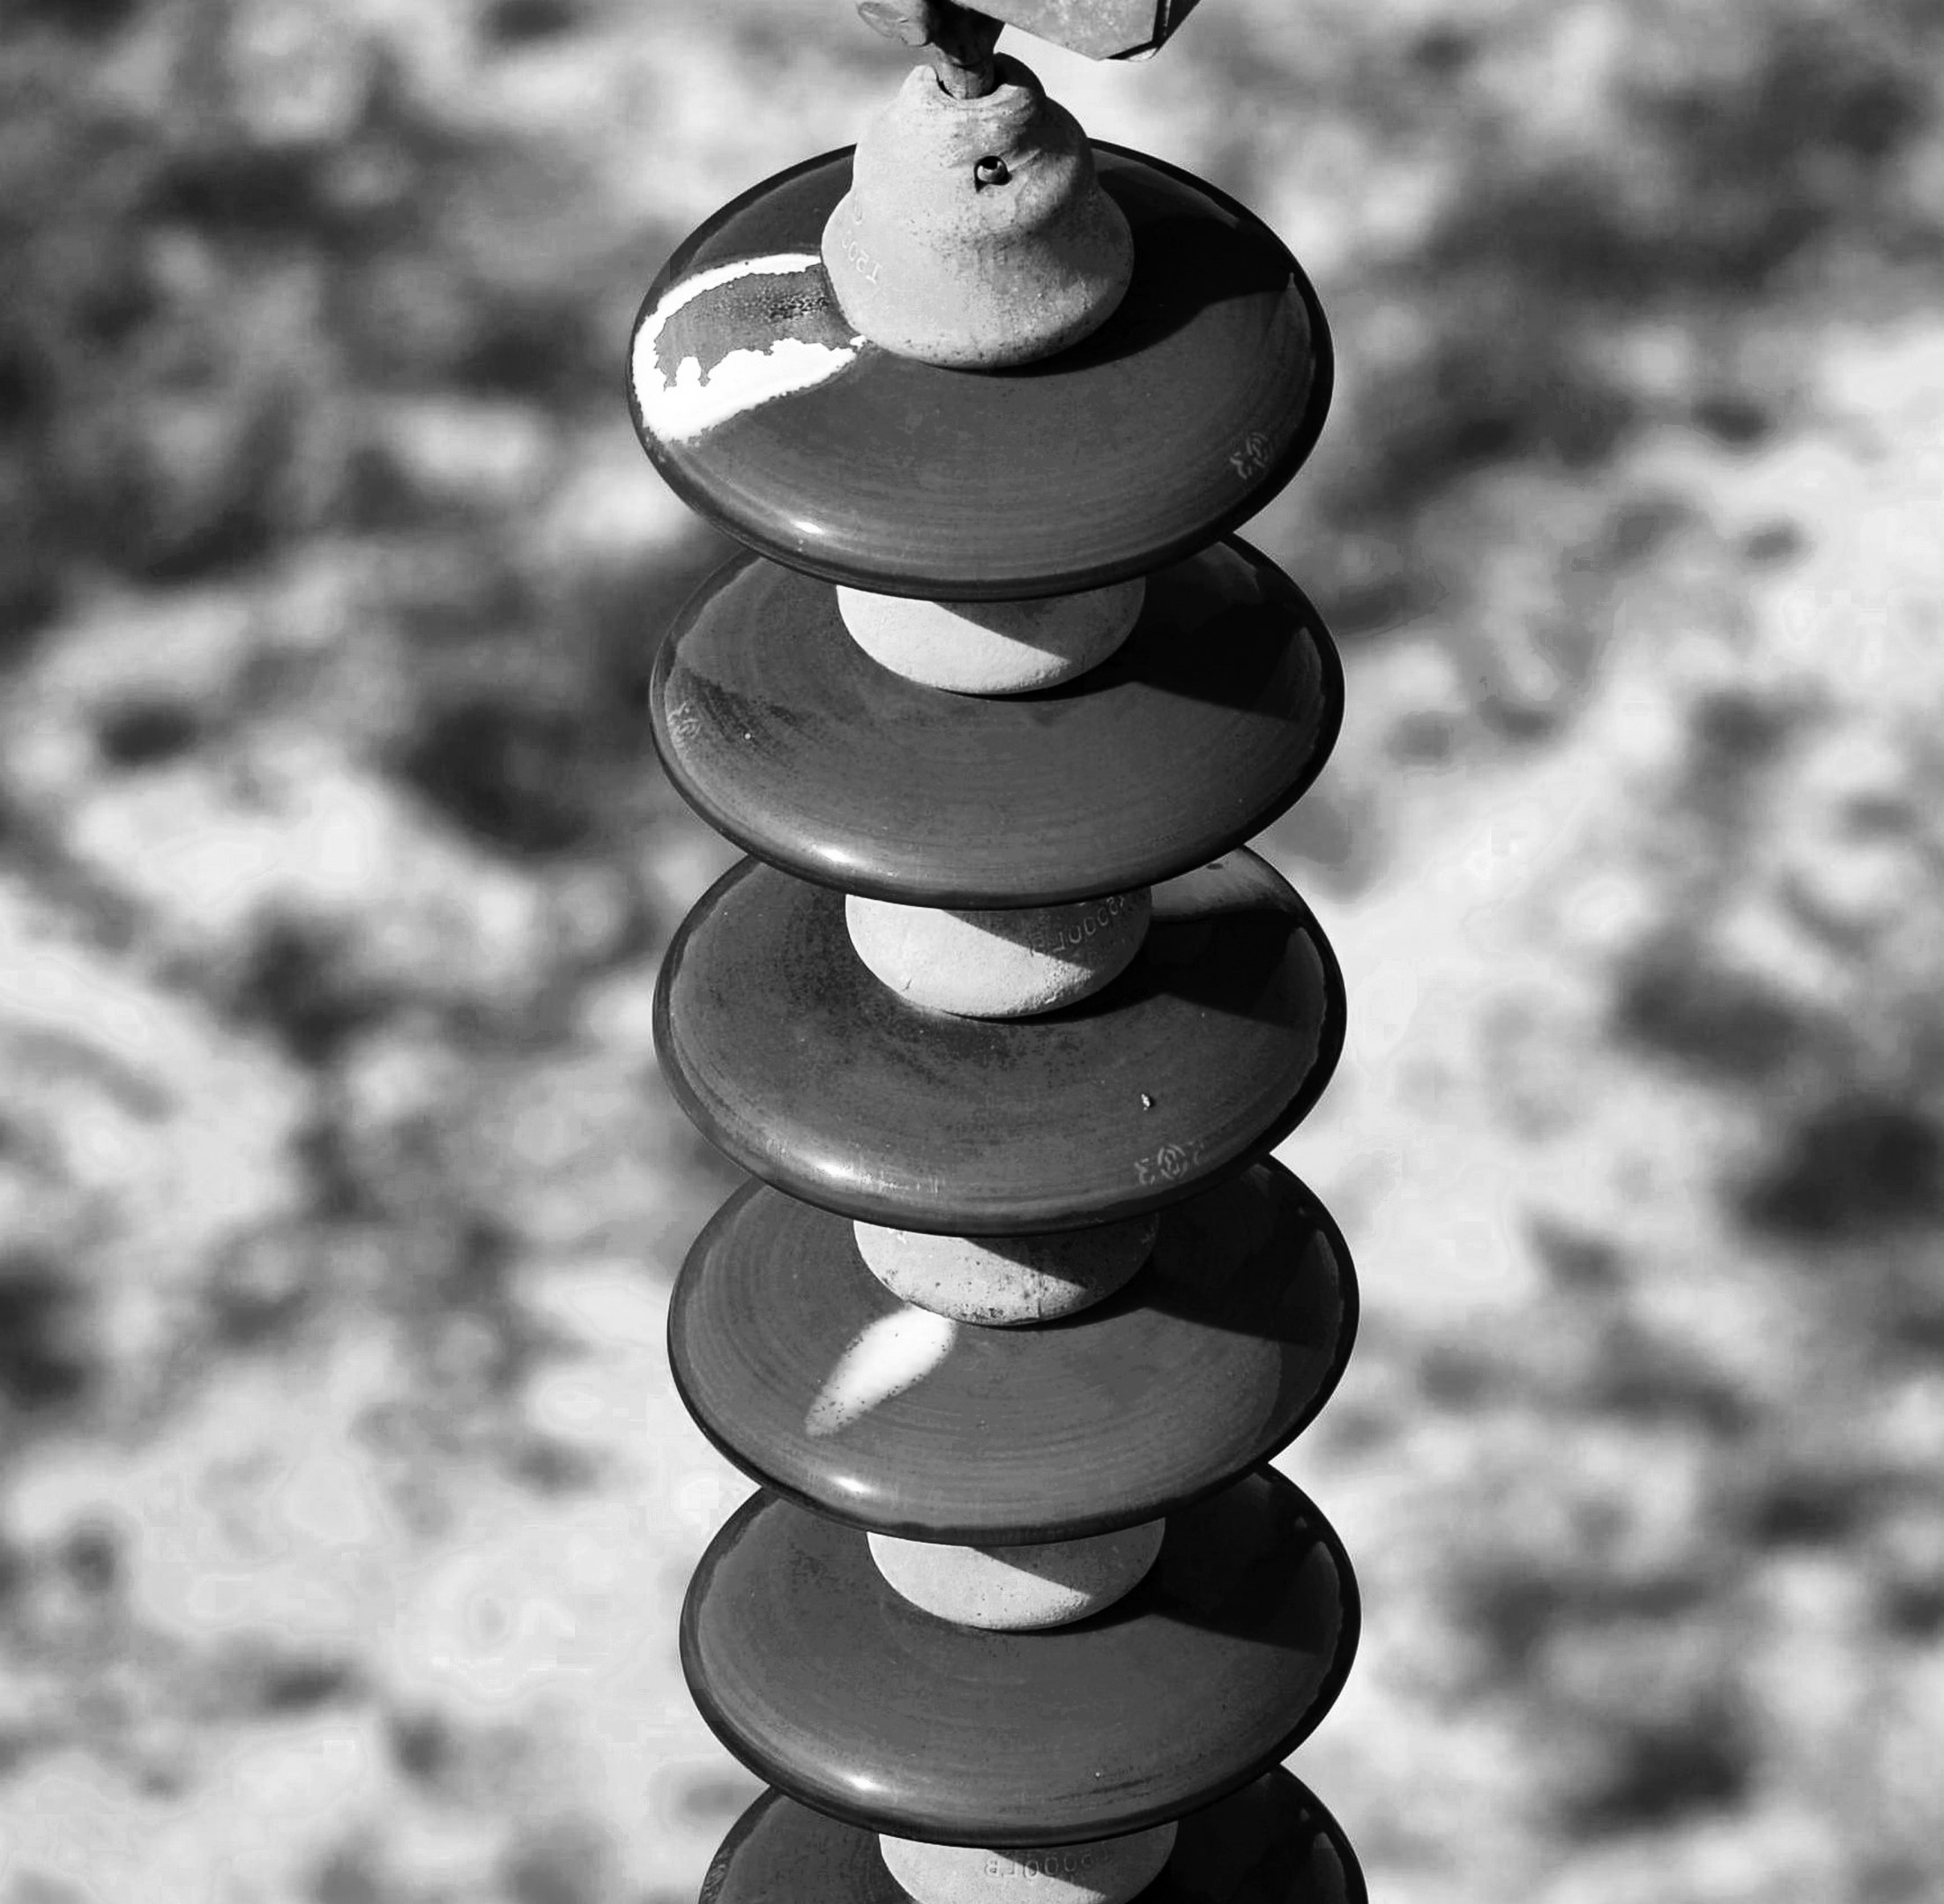Insulator flashover: (615, 124, 1356, 603), (652, 1147, 1372, 1552)
